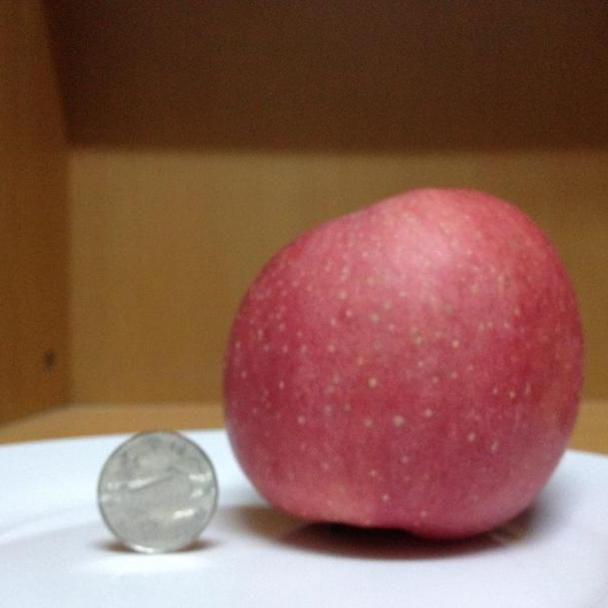apple: (222, 187, 587, 545)
